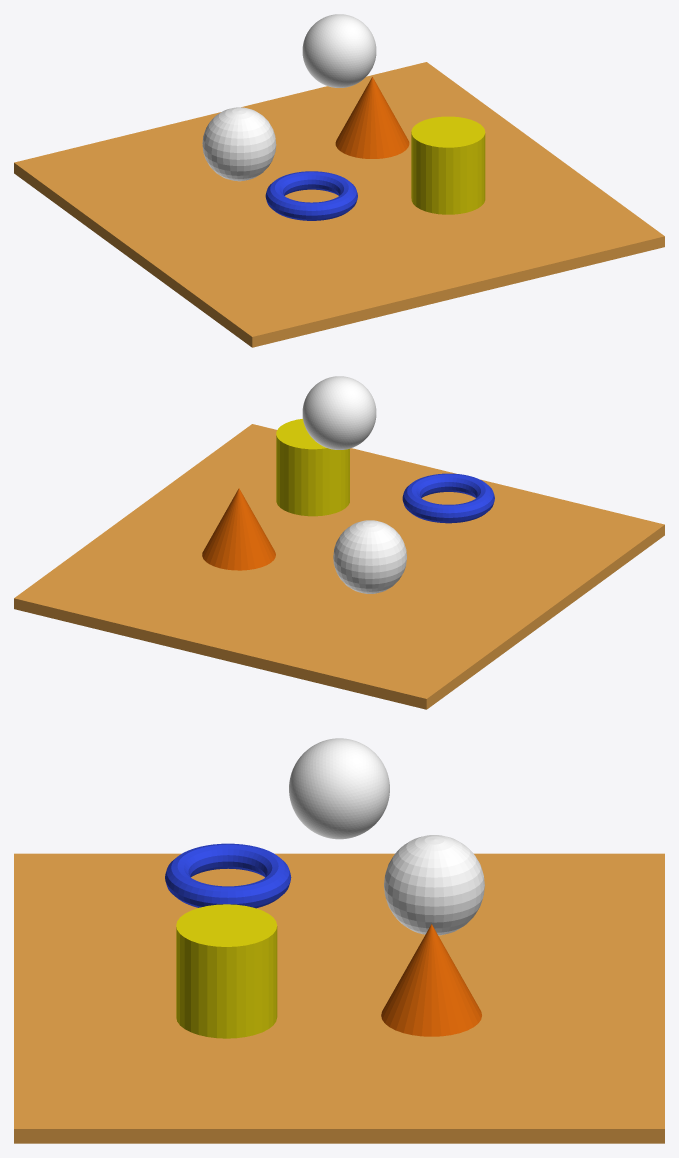
File: shapes.glb
The picture shows the model from 3 angles, top to bottom: view 1: azimuth 30°, elevation 25°; view 2: azimuth 150°, elevation 25°; view 3: azimuth 270°, elevation 25°; orthographic projection. The views are drawn at different scales.
Parts seen in each view (by area): view 1: Cube, Cylinder, Icosphere, Sphere, Cone, Torus; view 2: Cube, Cylinder, Icosphere, Sphere, Cone, Torus; view 3: Cube, Cylinder, Icosphere, Sphere, Cone, Torus.
Boxes of the visible parts, x1,y1,x2,y2 form: Cube: [14, 62, 664, 347]; Cylinder: [411, 116, 485, 214]; Icosphere: [302, 14, 376, 87]; Sphere: [202, 107, 276, 181]; Cone: [335, 77, 409, 158]; Torus: [265, 171, 357, 220]; Cube: [14, 424, 664, 709]; Cylinder: [276, 418, 349, 516]; Icosphere: [302, 376, 376, 449]; Sphere: [333, 520, 406, 593]; Cone: [202, 488, 275, 570]; Torus: [402, 473, 494, 523]; Cube: [14, 853, 664, 1143]; Cylinder: [176, 904, 277, 1038]; Icosphere: [289, 738, 389, 839]; Sphere: [384, 835, 484, 935]; Cone: [381, 924, 481, 1036]; Torus: [165, 843, 291, 908].
Bounding box in the file's own units: 12.88 × 5.74 × 12.88.
